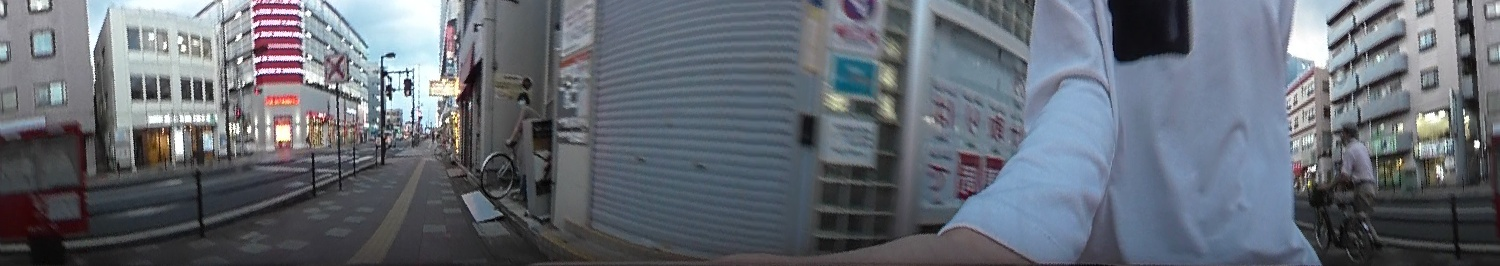person: (1317, 117, 1380, 240), (506, 90, 542, 179)
